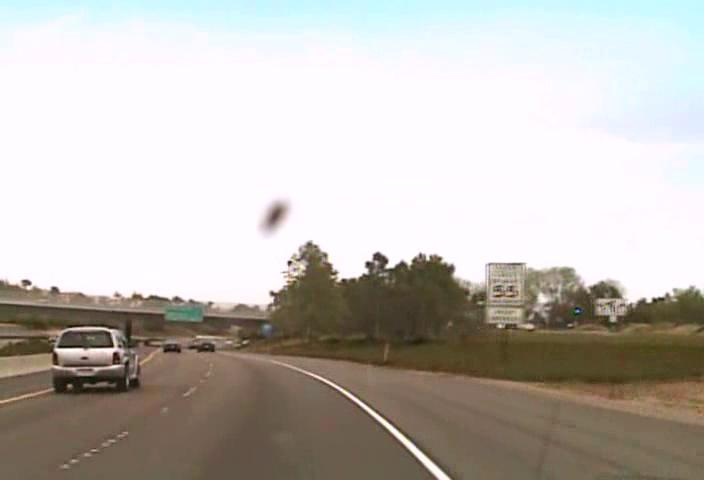truckSpeedLimit55: (484, 260, 526, 324)
